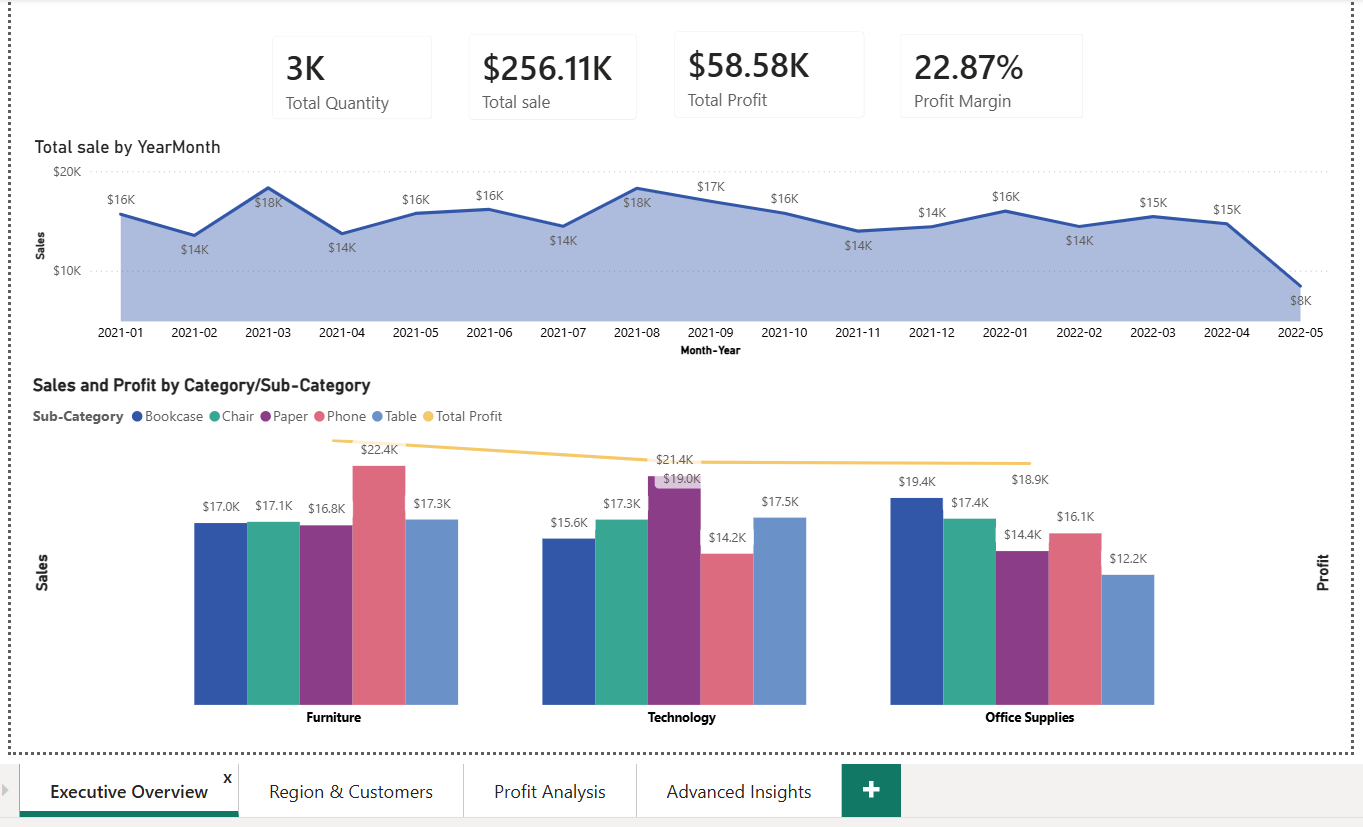

The dashboard page shown, as its layout file describes it:
{"tool":"powerbi","page":{"name":"Executive Overview","canvas":[1280,720],"ordinal":0},"visuals":[{"type":"cardVisual","fields":{"Data":["Measures_Tbl.Total Quantity"]},"box":[232.2,19.1,187.7,114.5],"z":0},{"type":"cardVisual","fields":{"Data":["Measures-Tbl.Total sale"]},"box":[419.9,17.5,195.6,116.1],"z":1000},{"type":"cardVisual","fields":{"Data":["Measures-Tbl.Total Profit"]},"box":[615.6,14.3,216.3,117.7],"z":2000},{"type":"cardVisual","fields":{"Data":["Measures_Tbl.Profit Margin"]},"box":[831.9,17.5,208.4,114.5],"z":3000},{"type":"lineChart","fields":{"Y":["Measures_Tbl.Total sale"],"Category":["Cleaned_Sales.YearMonth"]},"box":[17.5,132,1247,214.7],"z":4000},{"type":"lineClusteredColumnComboChart","title":"Sales and Profit by Category/Sub-Category","fields":{"Category":["Cleaned_Sales.Category"],"Y":["Measures_Tbl.Total sale"],"Series":["Cleaned_Sales.Sub-Category"],"Y2":["Measures_Tbl.Total Profit"]},"box":[15.9,359.5,1248.6,345.2],"z":5000}]}

Visuals, with their boxes on the page's 1280x720 design canvas (x1, y1, x2, y2). These are canvas units, not pixel positions in the 1363x827 screenshot, which may show the page scaled, cropped or inside an application window:
cardVisual - Measures_Tbl.Total Quantity: box(232, 19, 420, 134)
cardVisual - Measures-Tbl.Total sale: box(420, 18, 616, 134)
cardVisual - Measures-Tbl.Total Profit: box(616, 14, 832, 132)
cardVisual - Measures_Tbl.Profit Margin: box(832, 18, 1040, 132)
lineChart - Measures_Tbl.Total sale x Cleaned_Sales.YearMonth: box(18, 132, 1264, 347)
"Sales and Profit by Category/Sub-Category" lineClusteredColumnComboChart: box(16, 360, 1264, 705)
